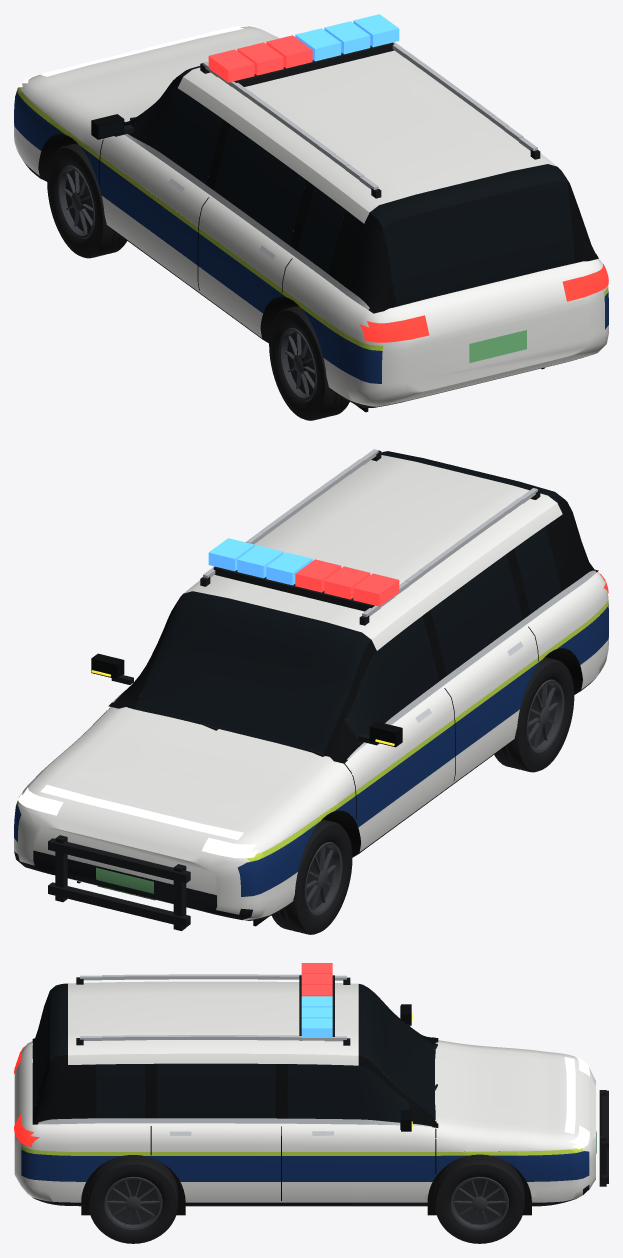
File: gz_police.glb
3 views of the same model, one above another, from view 1: azimuth 30°, elevation 25°; view 2: azimuth 150°, elevation 25°; view 3: azimuth 270°, elevation 25° (orthographic). The views are drawn at different scales.
Parts seen in each view (by area): view 1: police | body, police rear left | wheel, police front left | wheel; view 2: police | body, police front left | wheel, police rear left | wheel; view 3: police | body, police front right | wheel, police rear right | wheel.
Part boxes in pixels (box(x1,y1,x2,y2)): police | body: box(14, 14, 608, 412); police rear left | wheel: box(269, 305, 349, 420); police front left | wheel: box(47, 143, 126, 258); police | body: box(14, 449, 608, 930); police front left | wheel: box(271, 819, 352, 934); police rear left | wheel: box(494, 657, 574, 772); police | body: box(14, 963, 608, 1215); police front right | wheel: box(434, 1154, 524, 1243); police rear right | wheel: box(88, 1155, 178, 1243).
Size of the model in its own units: 2.32 by 1.88 by 5.02.
